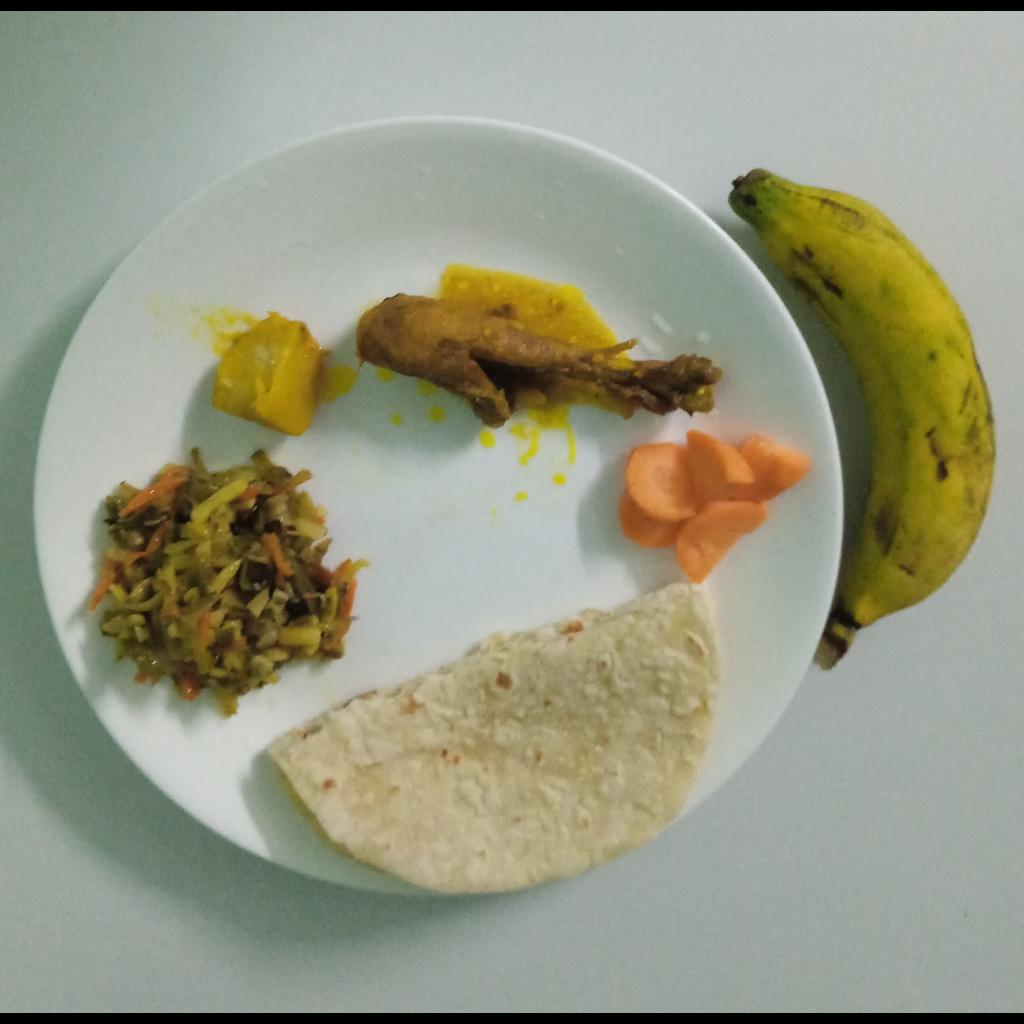banana: (728, 168, 994, 658)
carrot: (619, 429, 809, 588)
chicken: (355, 293, 723, 431)
potato: (210, 314, 325, 436)
ruti: (267, 584, 722, 897)
vegetable: (89, 449, 360, 720)
